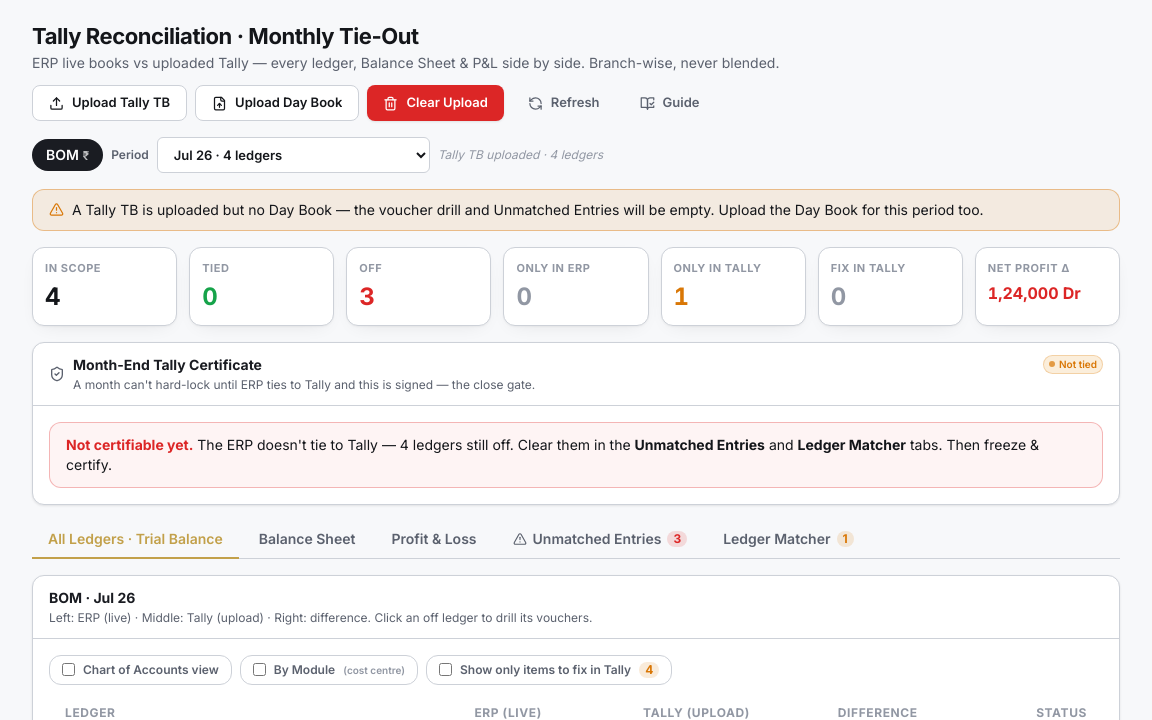
Tally Reconciliation · tie-out board render › Unmatched Entries — blank-Vch-No Tally-only vouchers do NOT collapse; presence sections show Value, amount-differs shows Net Δ
Click the button "Unmatched Entries 3".
click(600, 540)  # box [496, 520, 703, 558]
(page scrolled)
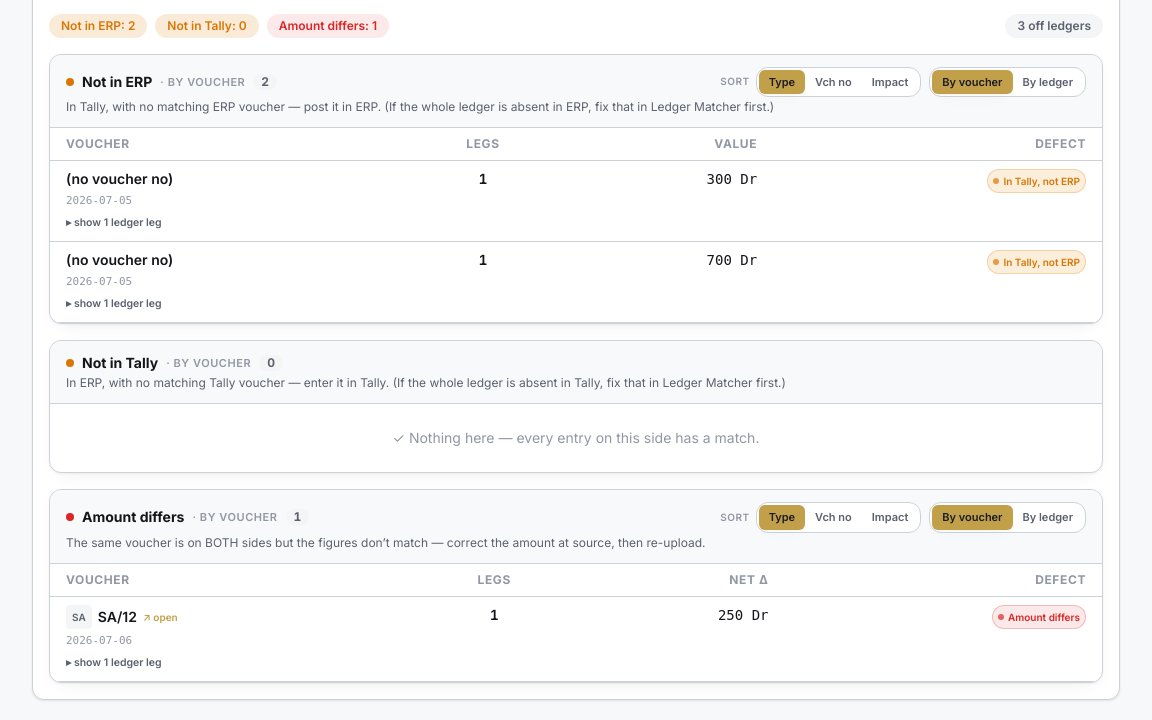
Check: the heading "Not in ERP · by voucher 2" is shown, box [66, 72, 277, 92]
Check: the text "(no voucher no)" is shown 2 times, box [66, 169, 173, 189]; [66, 250, 173, 270]
Check: the column heading "Value" is shown, box [565, 128, 773, 160]
